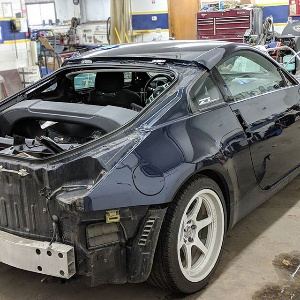bumper: (68, 194, 159, 287)
